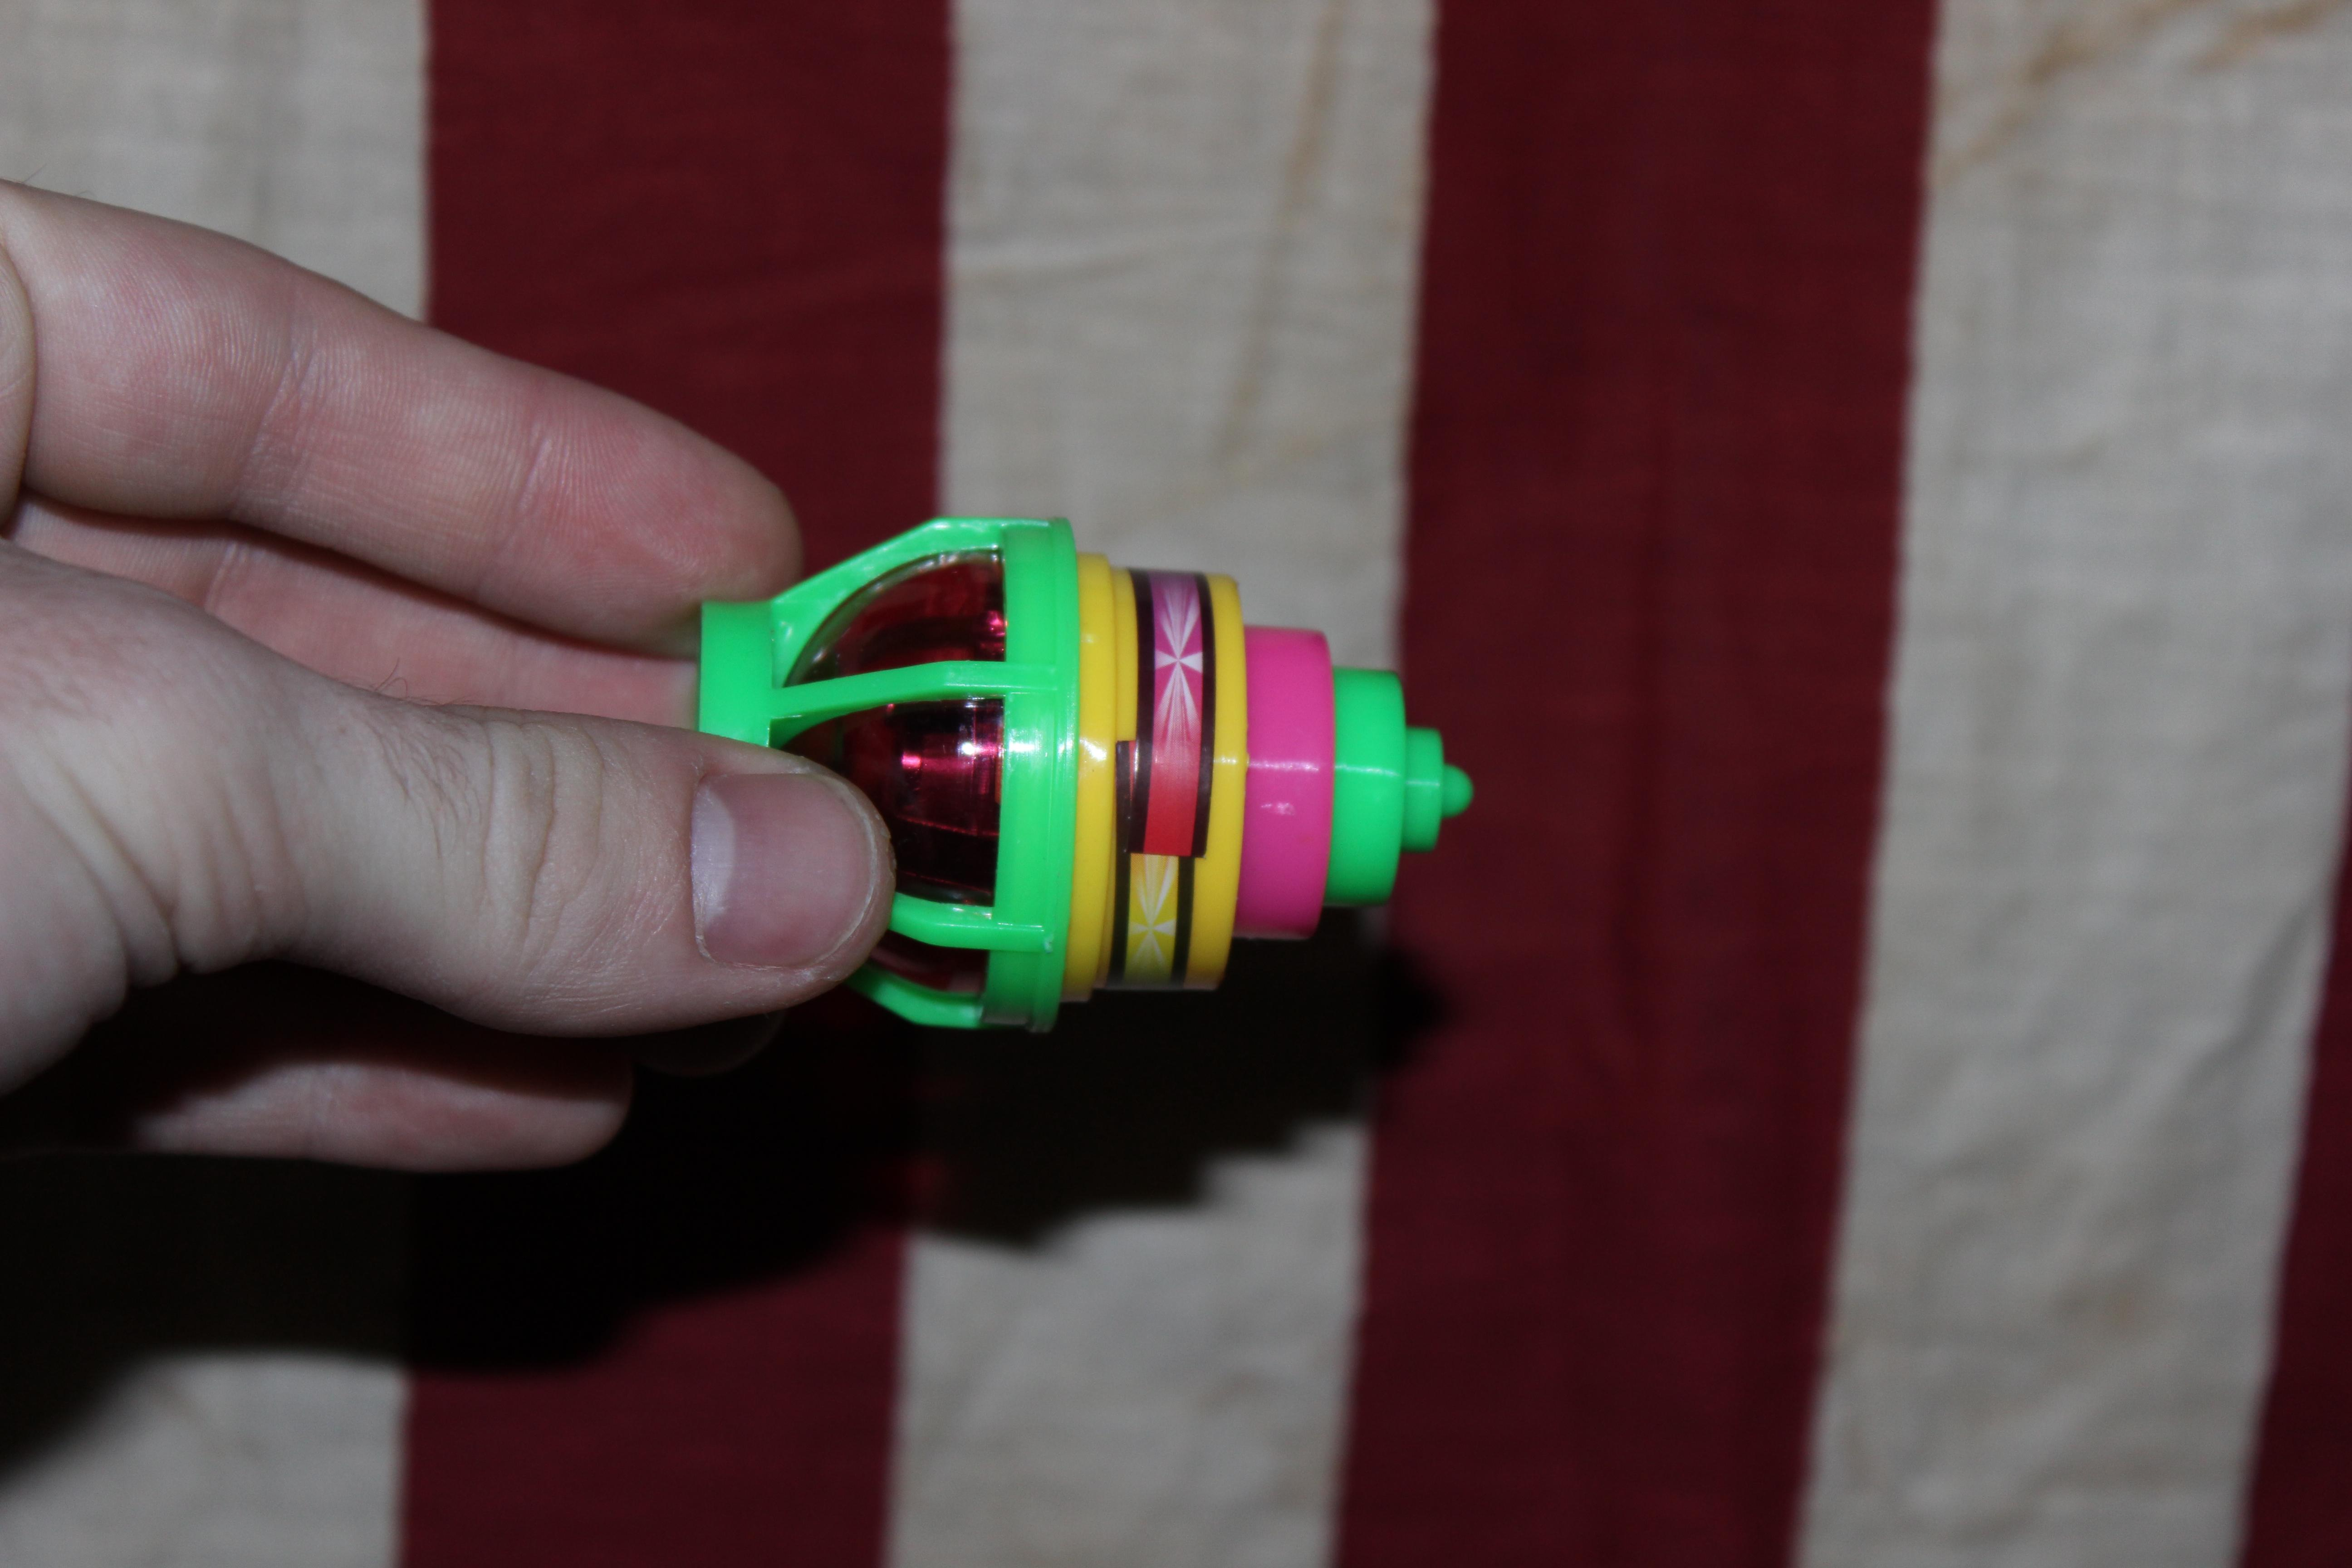gyroscope: (647, 474, 1505, 1095)
